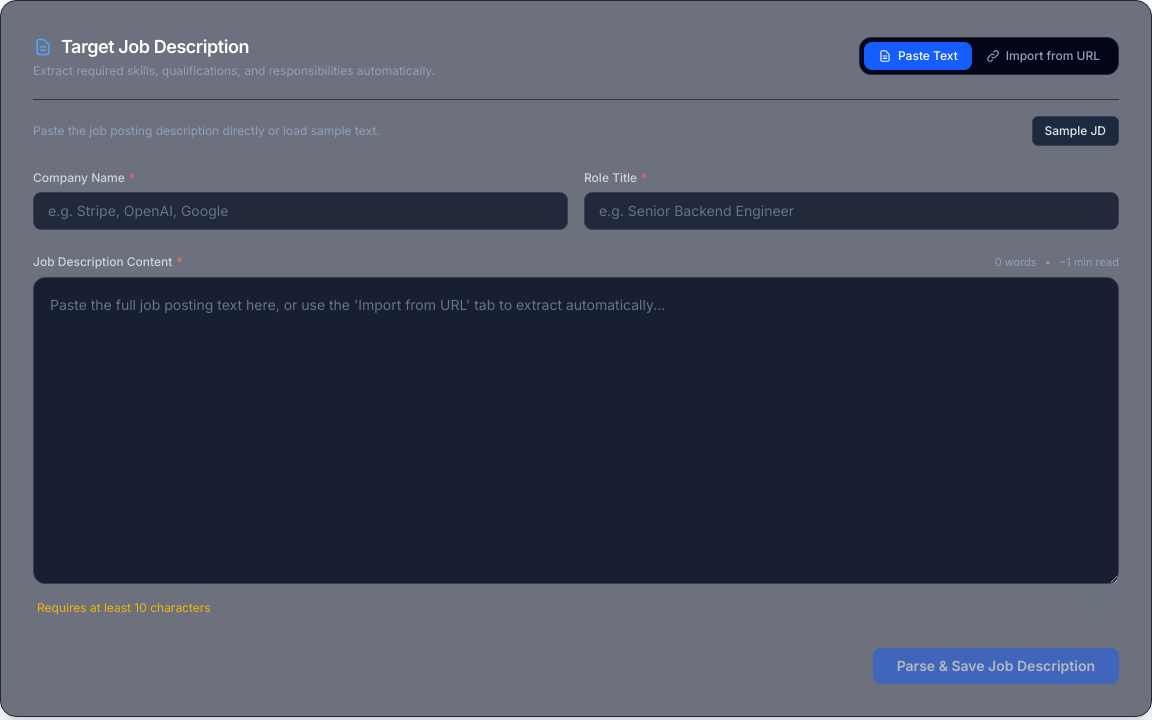
JDPasteForm Component - Scraper UI & Tab Integration › should render default Paste Text mode with sample loader
The width and height of the screenshot is (1152, 720).
Expected: the heading "Target Job Description" is shown, [33,36,249,57]
Expected: the button "Paste Text" is shown, [864,42,972,70]
// Click Sample JD
Click the button "Sample JD" at (1075,131), box [1032,116,1119,146]
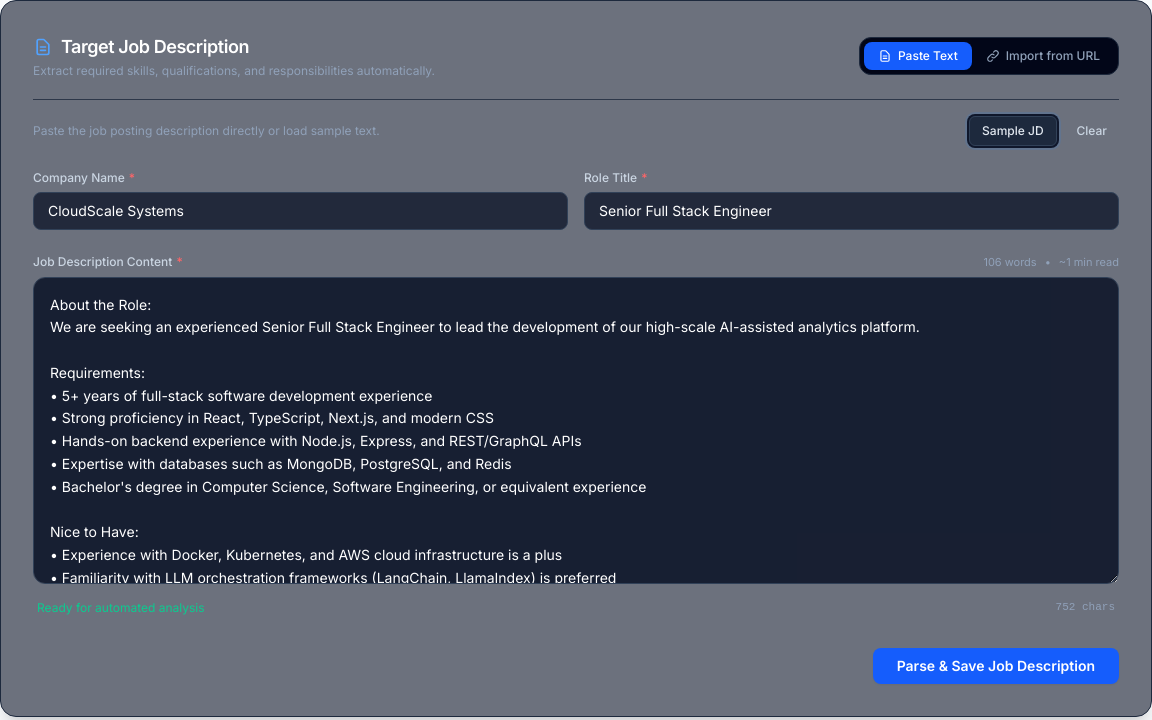
Result: the field labelled "Company Name *" holds "CloudScale Systems" at [33,192,568,230]
Result: the field labelled "Role Title *" holds "Senior Full Stack Engineer" at [584,192,1119,230]
